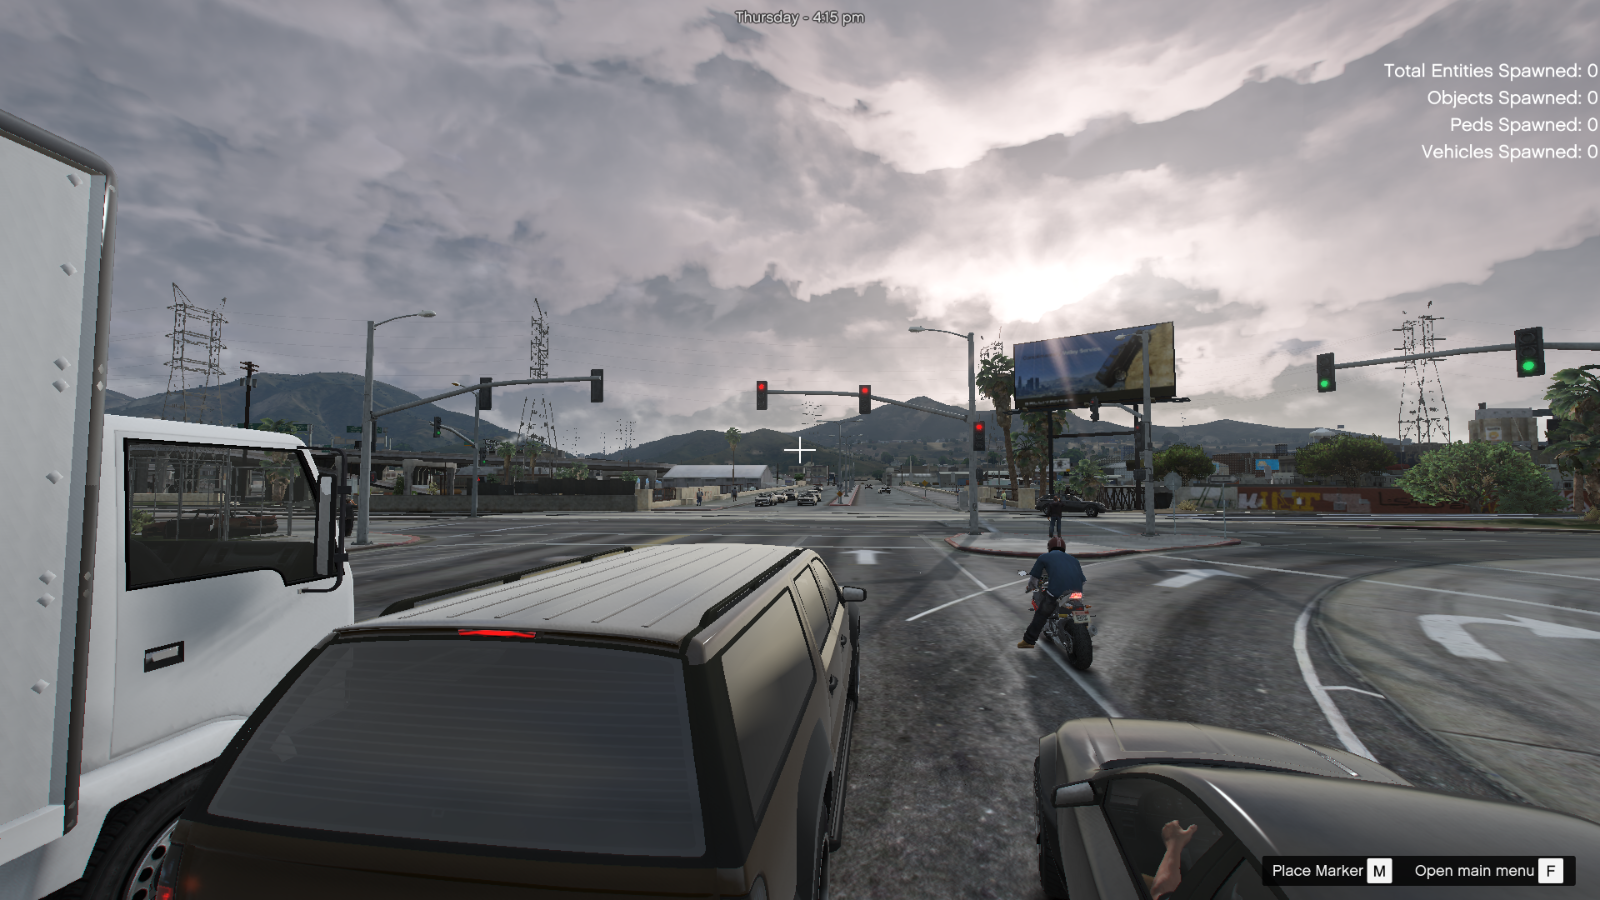red: (856, 380, 875, 419), (753, 377, 773, 411), (969, 421, 986, 454)
